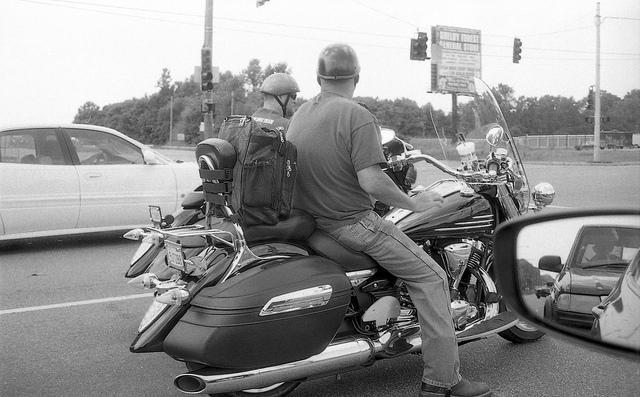car: (0, 126, 201, 240), (538, 225, 640, 331), (574, 142, 604, 151)
motorcycle: (122, 74, 556, 392)
truck: (539, 221, 640, 330)
